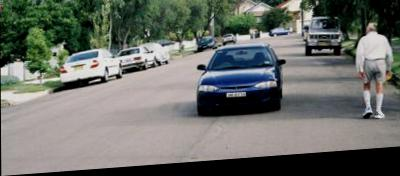License_Plate: (223, 87, 250, 102)
